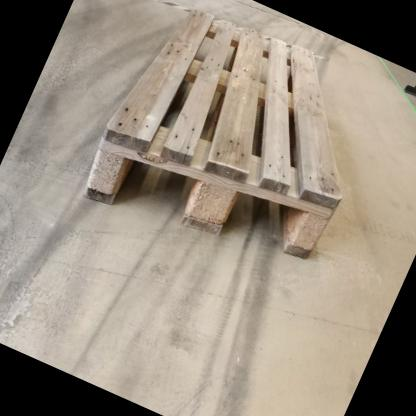BoxFace: (79, 5, 346, 264)
